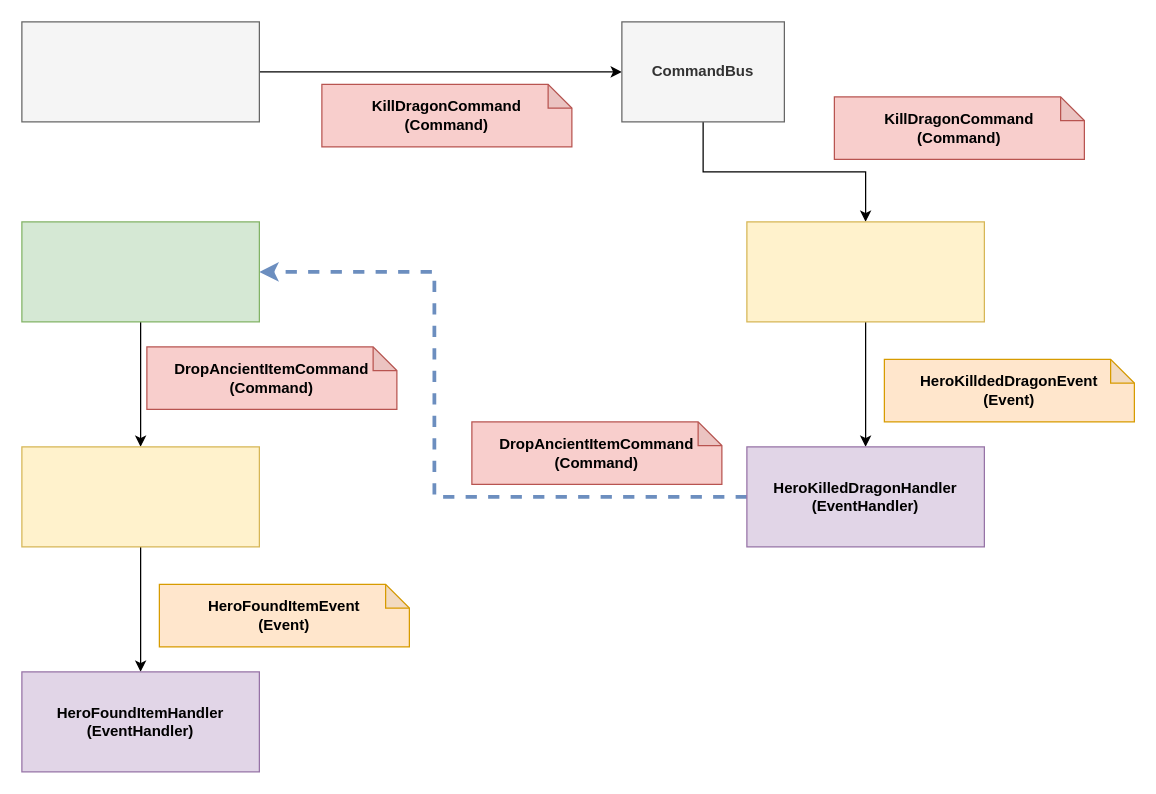
This 1156x794 diagram has some shape labels left out. Each missing label, with the box of its shape:
DropAncientHandler (CommandHandler): (21, 446, 259, 547)
HeroesGameSaga: (21, 221, 259, 322)
HeroesGameService: (21, 21, 259, 122)
KillDragonHandler (CommandHandler): (746, 221, 984, 322)
